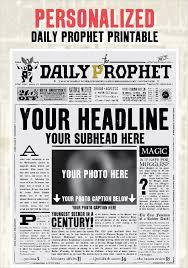Printing industry: (3, 3, 188, 268)
